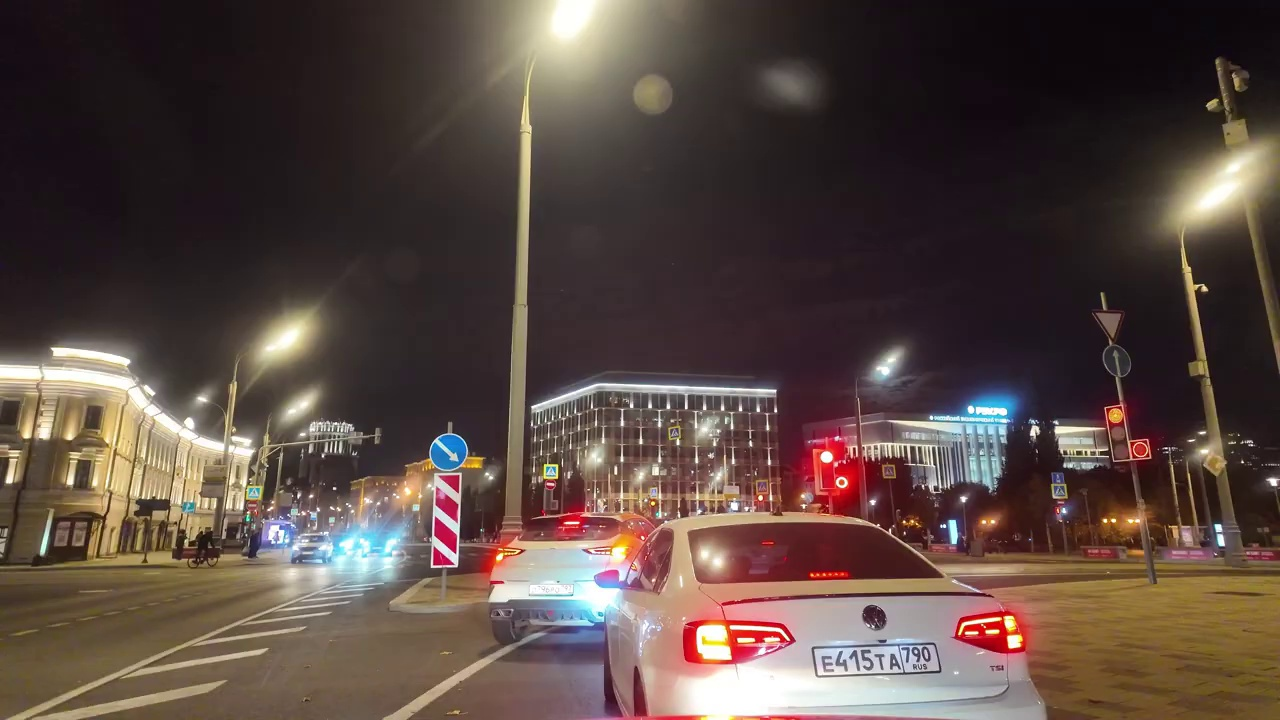acesa: (1184, 154, 1259, 222), (254, 312, 317, 368), (539, 2, 608, 52), (865, 345, 906, 387)
